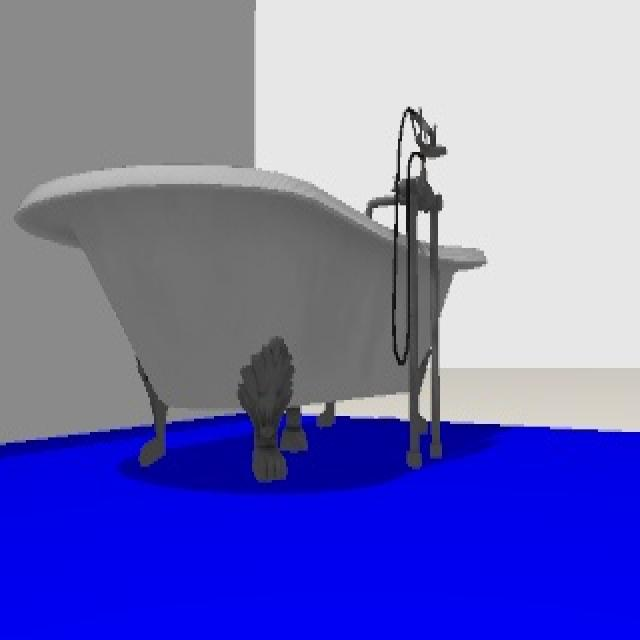bathtub: (18, 114, 485, 482)
